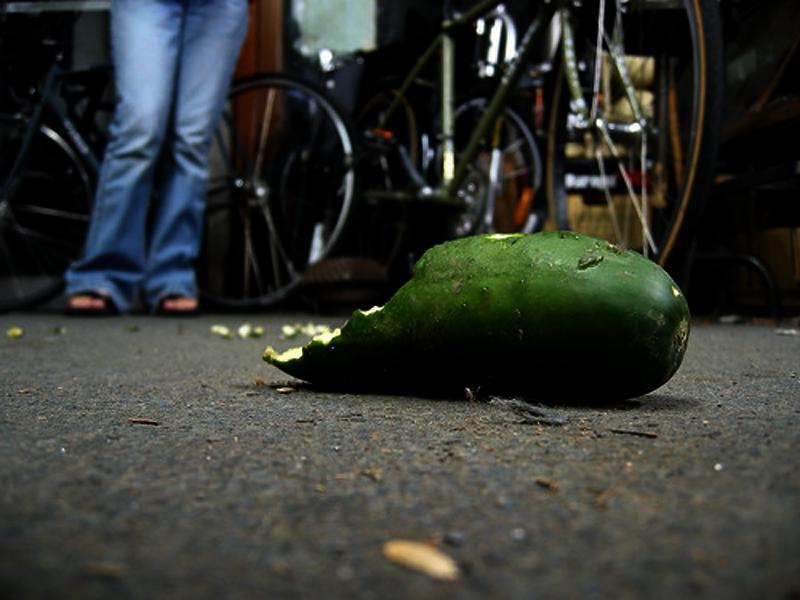Cucumber: (257, 232, 689, 398)
